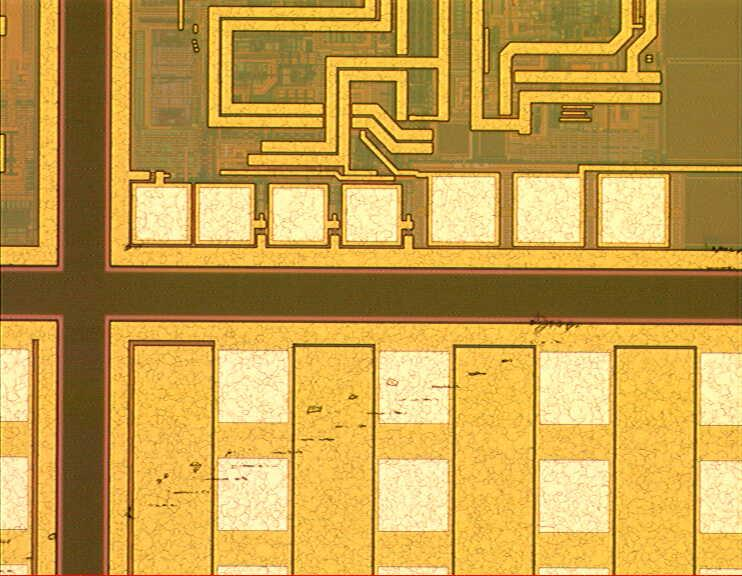SCRATCH: (1, 243, 742, 576)
